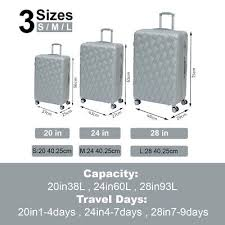suitcase: (130, 12, 193, 112), (78, 27, 126, 109), (32, 42, 74, 111)
